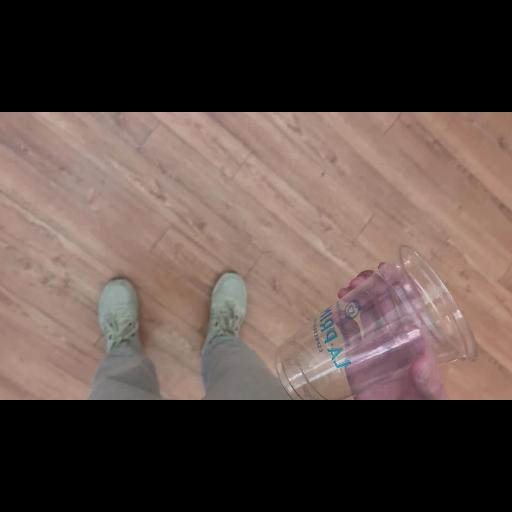lp_plastic_cup: (274, 242, 482, 400)
